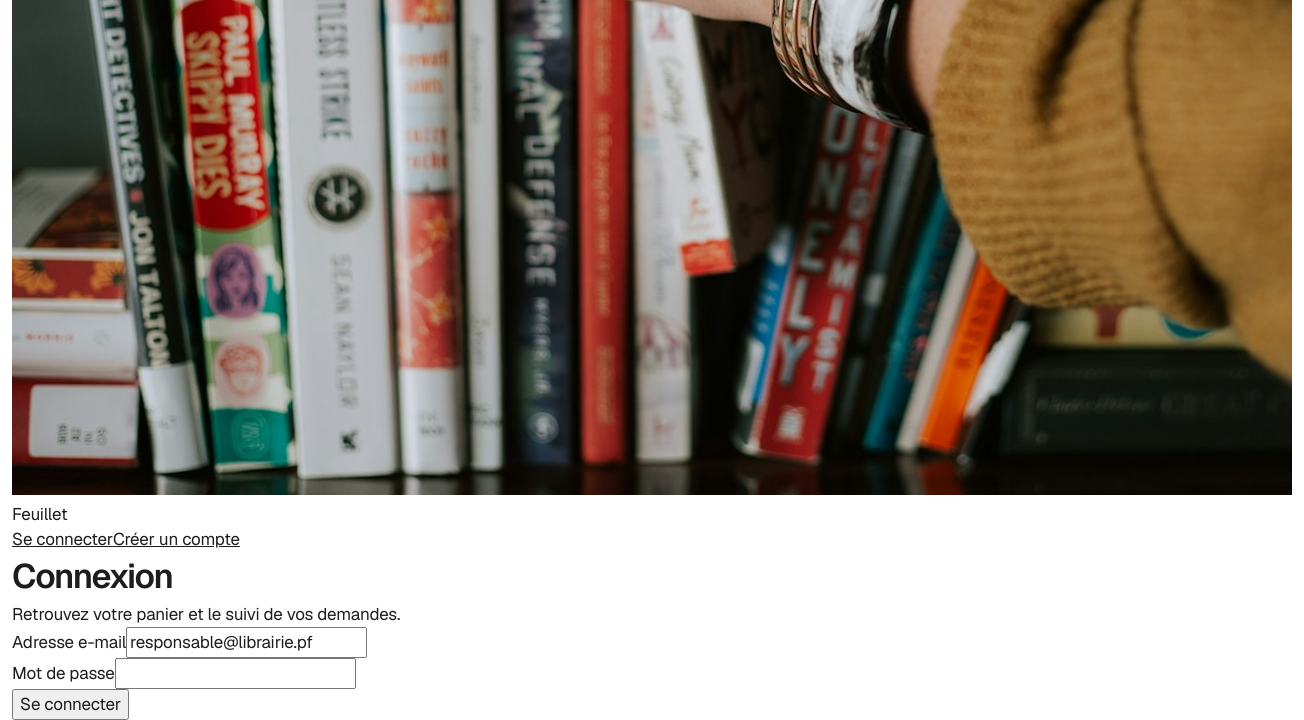
page de connexion › amène le responsable dans l espace admin
Earlier steps of the test are not shown.
(page scrolled)
Type "motdepasse1" into the password field labelled "Mot de passe" at x=235, y=673, box [115,658,356,689]
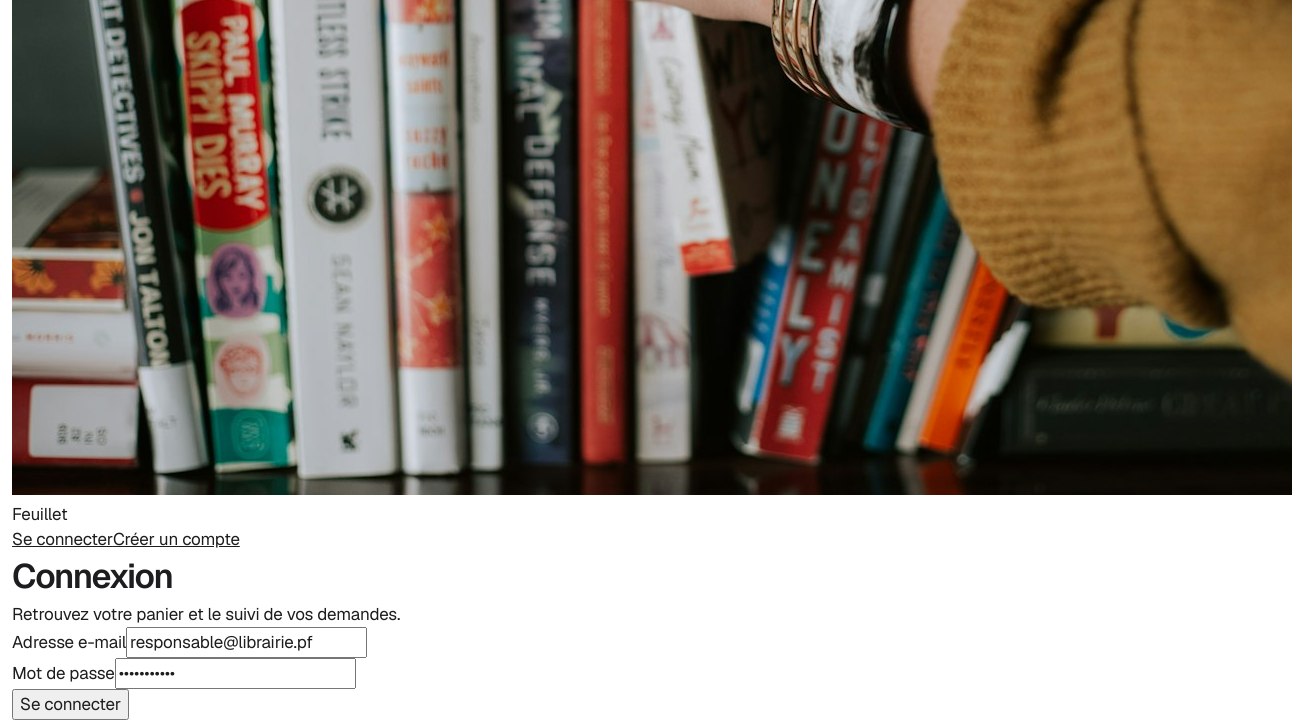
Click the button "Se connecter" at x=70, y=704, box [12,689,129,719]
(page scrolled)
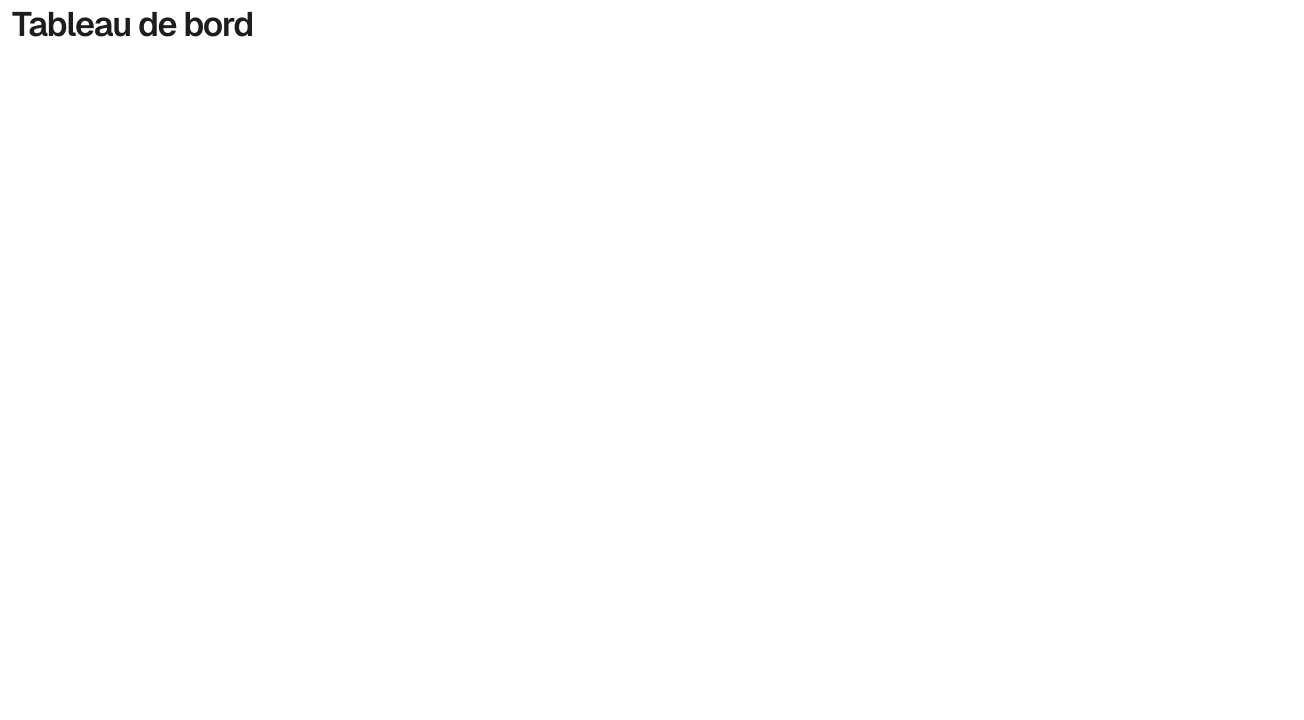
Check: the heading "Tableau de bord" is shown, box [12,2,253,46]
